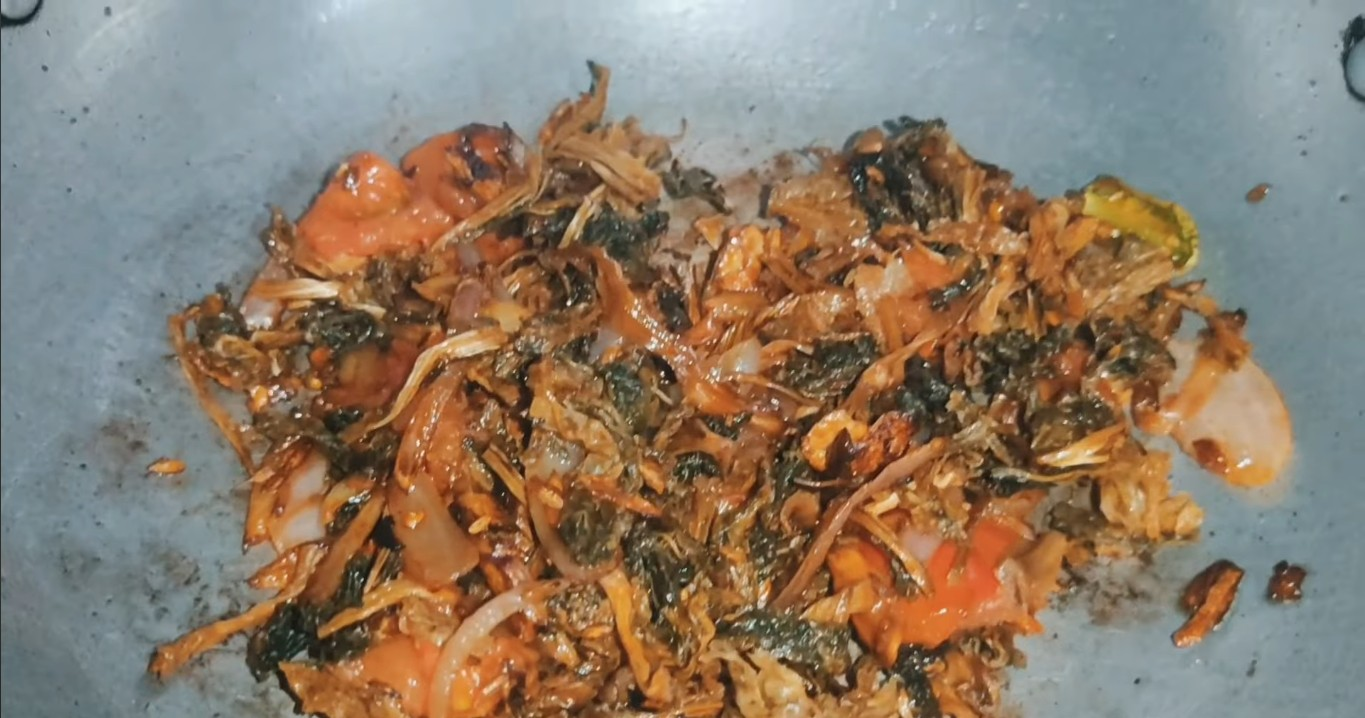gundruk: (250, 143, 1113, 718)
